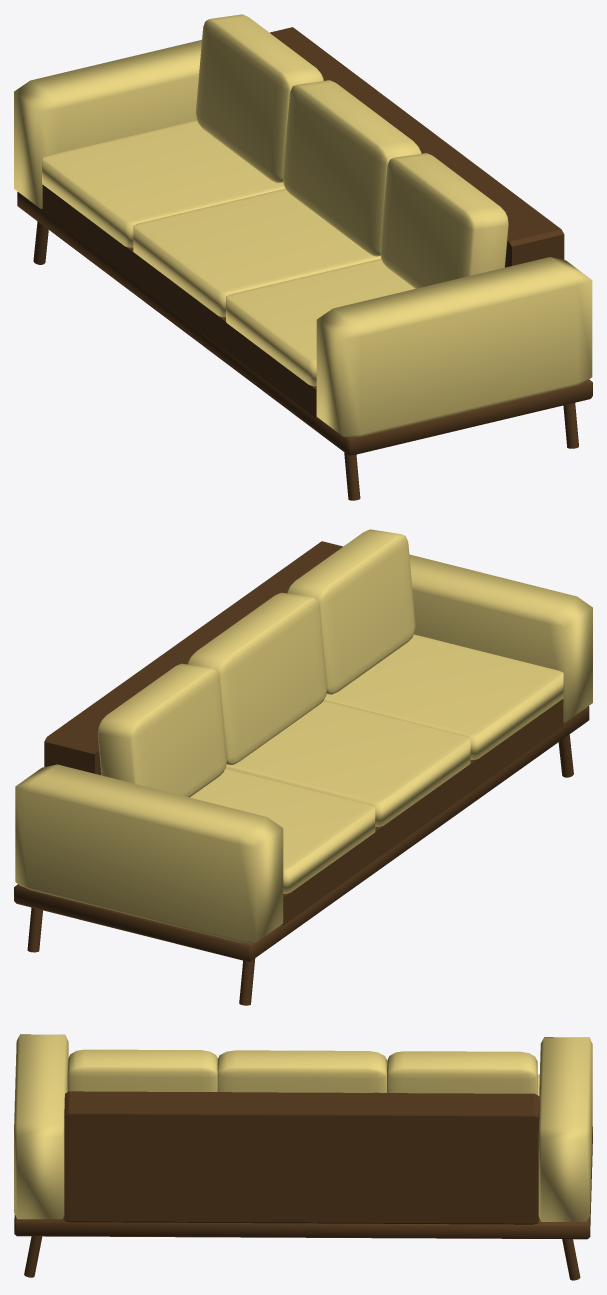
The model's file is sofa.fbx.
The picture shows the model from 3 angles, top to bottom: view 1: azimuth 30°, elevation 25°; view 2: azimuth 150°, elevation 25°; view 3: azimuth 270°, elevation 25°; orthographic projection. The views are drawn at different scales.
Visible parts, largest first — view 1: Cube.021, Cube.022, Cube.017, Cube.020, Cube.019, Cube.005, Cube.014, Cube.015, Cube.016, Cube.018, Cylinder.001; view 2: Cube.019, Cube.022, Cube.017, Cube.016, Cube.021, Cube.005, Cube.015, Cube.014, Cube.020, Cube.018, Cylinder; view 3: Cube.018, Cube.019, Cube.021, Cube.022, Cube.005, Cube.015, Cube.014, Cylinder.001, Cylinder.
Boxes of the visible parts, <box> form: Cube.021: <box>316,257,592,437</box>; Cube.022: <box>17,185,592,455</box>; Cube.017: <box>133,188,380,317</box>; Cube.020: <box>42,120,285,247</box>; Cube.019: <box>14,40,201,208</box>; Cube.005: <box>282,80,421,256</box>; Cube.014: <box>380,153,508,288</box>; Cube.015: <box>195,14,323,182</box>; Cube.016: <box>226,259,414,386</box>; Cube.018: <box>270,27,564,267</box>; Cylinder.001: <box>344,403,578,500</box>; Cube.019: <box>15,764,283,943</box>; Cube.022: <box>14,699,589,961</box>; Cube.017: <box>226,700,470,827</box>; Cube.016: <box>324,634,563,759</box>; Cube.021: <box>409,554,592,722</box>; Cube.005: <box>187,592,326,765</box>; Cube.015: <box>97,663,226,797</box>; Cube.014: <box>287,529,415,694</box>; Cube.020: <box>190,768,375,893</box>; Cube.018: <box>44,541,342,775</box>; Cylinder: <box>27,907,255,1005</box>; Cube.018: <box>64,1091,539,1224</box>; Cube.019: <box>538,1037,592,1221</box>; Cube.021: <box>14,1034,68,1219</box>; Cube.022: <box>14,1127,592,1239</box>; Cube.005: <box>217,1050,387,1092</box>; Cube.015: <box>387,1051,537,1094</box>; Cube.014: <box>67,1049,217,1091</box>; Cylinder.001: <box>24,1236,42,1277</box>; Cylinder: <box>562,1239,580,1280</box>.
Size of the model in its own units: 87.35 by 75.19 by 201.
